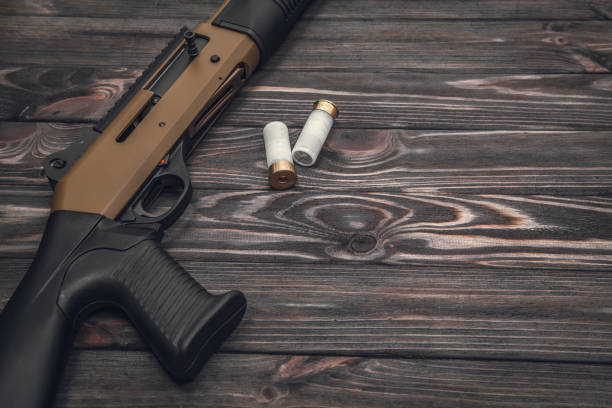gun: (0, 0, 313, 408)
